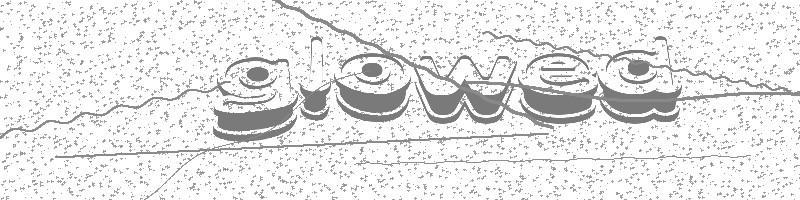d: (592, 33, 688, 132)
e: (518, 50, 602, 132)
g: (215, 52, 301, 142)
l: (298, 27, 332, 128)
o: (331, 47, 413, 124)
w: (412, 46, 518, 129)
